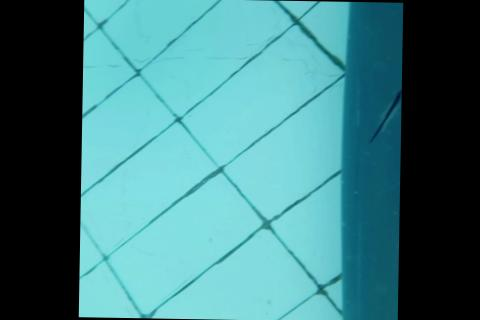keretakan: (364, 79, 401, 142)
